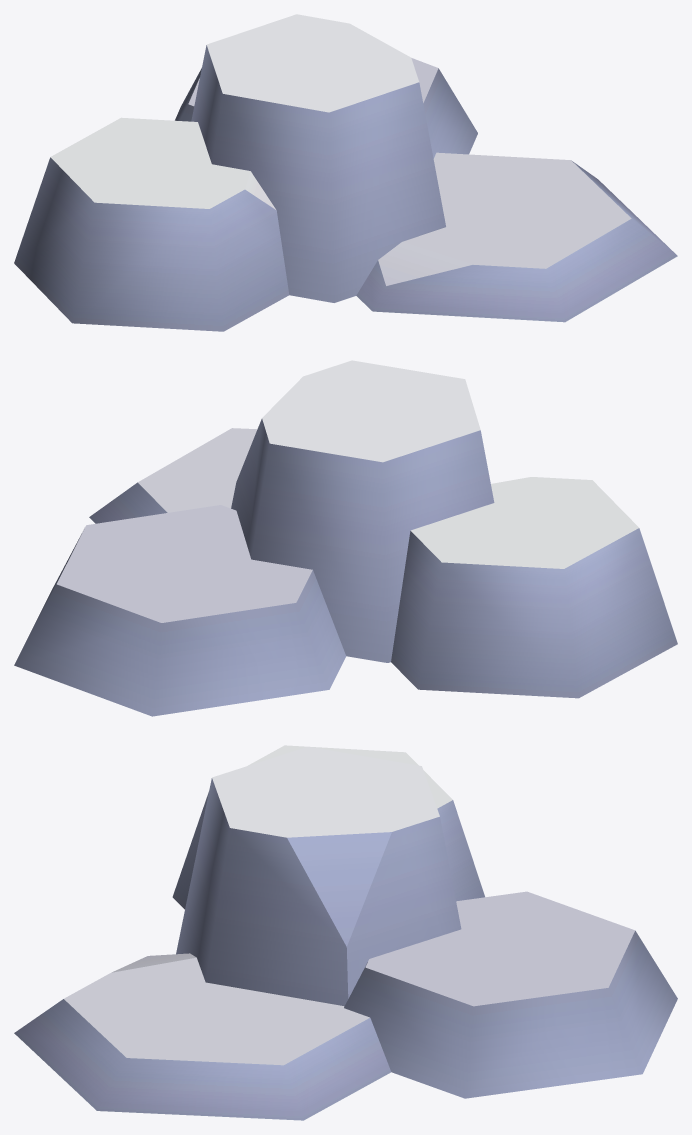
The model's file is kenney-tower-defense-snow-detail-rocks.glb.
3 views of the same model, one above another, from view 1: azimuth 30°, elevation 25°; view 2: azimuth 150°, elevation 25°; view 3: azimuth 270°, elevation 25° (orthographic). The views are drawn at different scales.
Visible parts, largest first — view 1: snow-detail-rocks; view 2: snow-detail-rocks; view 3: snow-detail-rocks.
Part boxes in pixels (left/top/right/bottom): snow-detail-rocks: left=14, top=14, right=677, bottom=331; snow-detail-rocks: left=14, top=360, right=677, bottom=716; snow-detail-rocks: left=14, top=745, right=677, bottom=1120.
Size of the model in its own units: 0.5976 by 0.1844 by 0.6055.
1 material, 1 textured.
